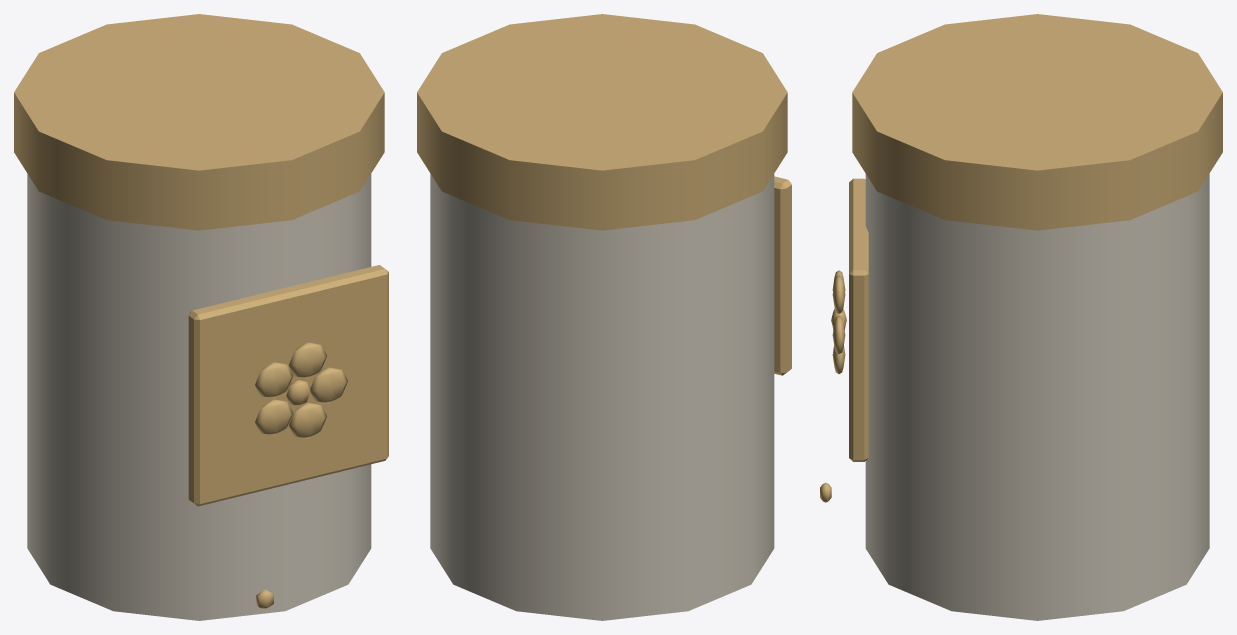
3 views of the same model, side by side, from view 1: azimuth 30°, elevation 25°; view 2: azimuth 150°, elevation 25°; view 3: azimuth 270°, elevation 25° (orthographic).
Visible parts, largest first — view 1: g_s78; view 2: g_s78; view 3: g_s78.
Part boxes in pixels (x1,y1,x2,y2): g_s78: (14, 14, 388, 620); g_s78: (417, 14, 791, 620); g_s78: (820, 14, 1222, 620).
Size of the model in its own units: 0.28 by 0.38 by 0.3043.
